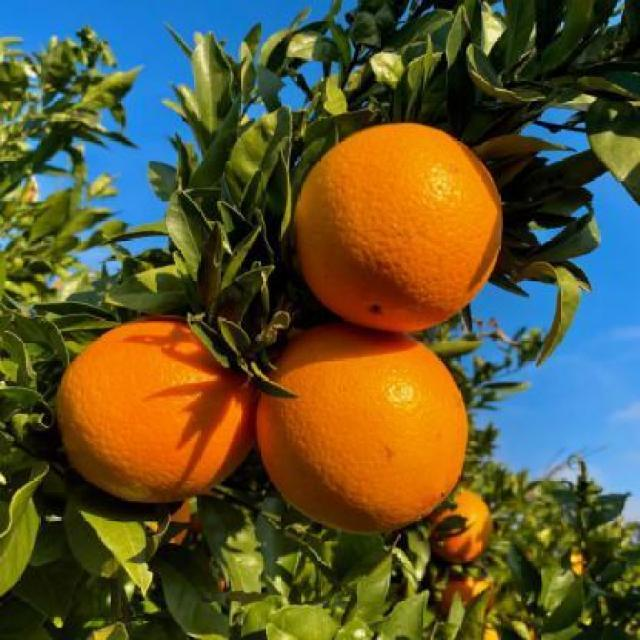Jeruk Sudah Matang: (250, 322, 472, 540), (296, 114, 509, 340), (54, 314, 250, 508)
